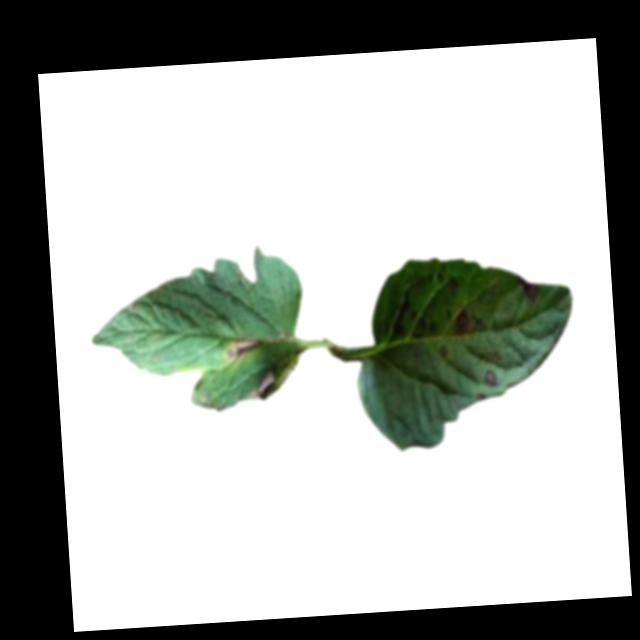Early_blight: (222, 334, 261, 363), (248, 371, 276, 405), (519, 278, 540, 303), (454, 308, 469, 338), (483, 367, 500, 386)
